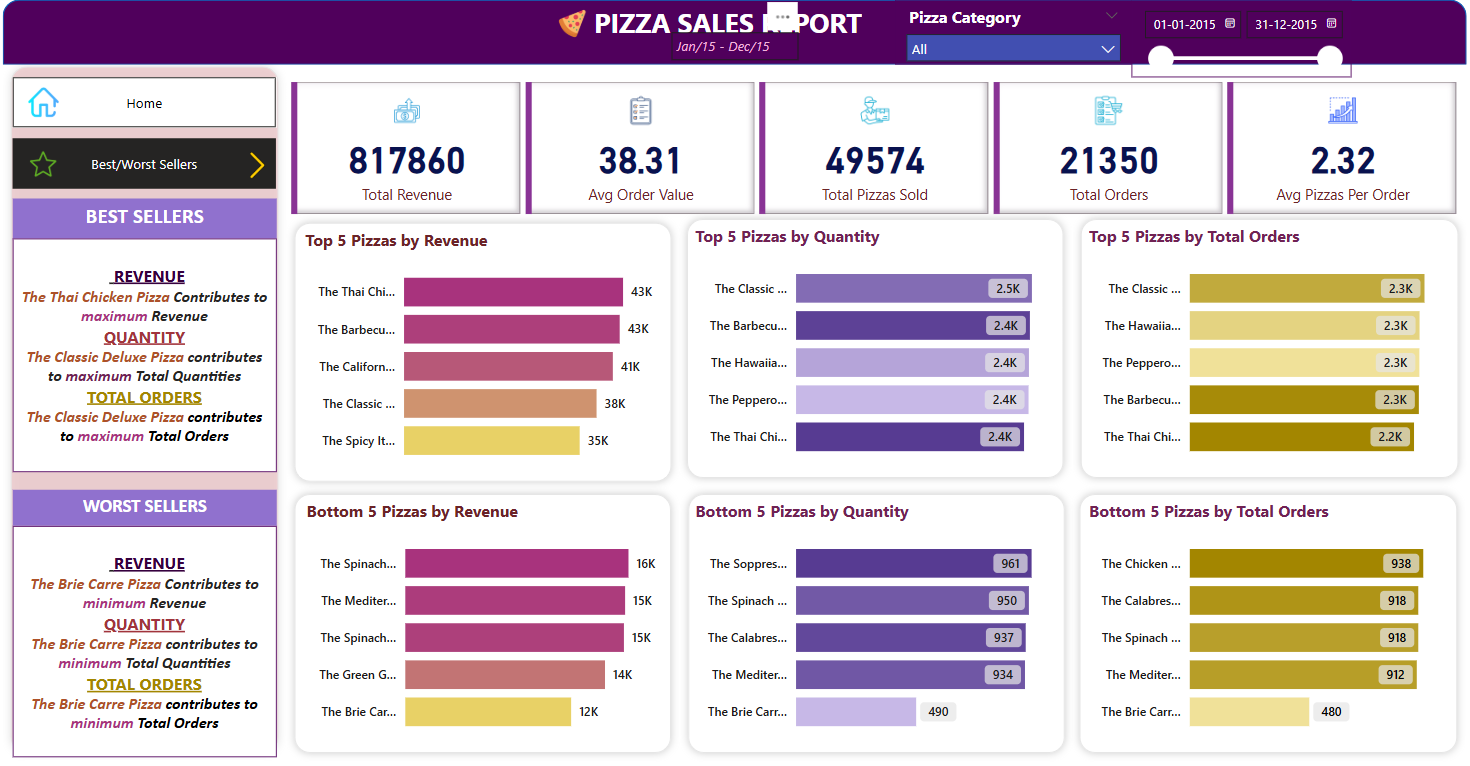

This screenshot's page, from the dashboard's own definition file:
{"tool":"powerbi","page":{"name":"Best/Worst Sellers","canvas":[1500,820],"ordinal":1},"visuals":[{"type":"shape","box":[18.8,58.8,283.8,702.5],"z":0},{"type":"cardVisual","fields":{"Data":["pizza_sales.Total Revenue","pizza_sales.Avg Order Value","pizza_sales.Total Pizzas Sold","pizza_sales.Total Orders","pizza_sales.Avg Pizzas Per Order"]},"box":[302.5,77.5,1178.8,142.5],"z":1000},{"type":"shape","box":[18.8,0,1463.8,65],"z":2000},{"type":"textbox","box":[605,0,291.2,47.5],"z":3000},{"type":"textbox","box":[687.5,32.5,127.5,27.5],"z":4000},{"type":"image","box":[557.5,5,61.2,37.5],"z":5000},{"type":"shape","box":[302.5,215,393,275],"z":6000},{"type":"textbox","box":[28.8,198.8,263.8,41.2],"z":7000},{"type":"textbox","box":[28.8,238.8,263.8,233.8],"z":8000},{"type":"textbox","box":[28.8,490,263.8,36.2],"z":9000},{"type":"textbox","box":[28.8,526.2,263.8,231.2],"z":10000},{"type":"slicer","fields":{"Values":["pizza_sales.pizza_category"]},"box":[911.2,0,236.2,65],"z":11000},{"type":"slicer","fields":{"Values":["pizza_sales.order_date"]},"box":[1147.5,0,220,77.5],"z":12000},{"type":"shape","box":[695,211.2,392.5,275],"z":13000},{"type":"shape","box":[1088.8,211.2,393.8,275],"z":14000},{"type":"shape","box":[302.5,486.2,392.5,275],"z":15000},{"type":"shape","box":[696.2,486.2,392.5,275],"z":16000},{"type":"shape","box":[1087.5,486.2,393.8,275],"z":17000},{"type":"barChart","title":"Top 5 Pizzas by Revenue","fields":{"Category":["pizza_sales.pizza_name"],"Y":["pizza_sales.Total Revenue"]},"box":[316.2,228.8,362.5,247.5],"z":18000},{"type":"barChart","title":"Bottom 5 Pizzas by Revenue","fields":{"Category":["pizza_sales.pizza_name"],"Y":["pizza_sales.Total Revenue"]},"box":[317.5,500,362.5,247.5],"z":19000},{"type":"barChart","title":"Top 5 Pizzas by Quantity","fields":{"Y":["pizza_sales.Total Pizzas Sold"],"Category":["pizza_sales.pizza_name"]},"box":[706.2,225,371.2,247.5],"z":20000},{"type":"barChart","title":"Bottom 5 Pizzas by Quantity","fields":{"Y":["pizza_sales.Total Pizzas Sold"],"Category":["pizza_sales.pizza_name"]},"box":[706.2,500,371.2,247.5],"z":20001},{"type":"barChart","title":"Top 5 Pizzas by Total Orders","fields":{"Category":["pizza_sales.pizza_name"],"Y":["pizza_sales.Total Orders"]},"box":[1100,225,371.2,247.5],"z":20002},{"type":"barChart","title":"Bottom 5 Pizzas by Total Orders","fields":{"Category":["pizza_sales.pizza_name"],"Y":["pizza_sales.Total Orders"]},"box":[1100,500,371.2,247.5],"z":20003},{"type":"pageNavigator","box":[28.8,77.5,263.8,50],"z":20004},{"type":"pageNavigator","box":[28.8,138.8,263.8,50],"z":20005},{"type":"image","box":[253.8,155,38.8,36.2],"z":20006},{"type":"image","box":[38.8,82.5,41.2,40],"z":20007},{"type":"image","box":[38.8,155,41.2,36.2],"z":20008}]}

Visuals, with their boxes on the page's 1500x820 design canvas (x1, y1, x2, y2). These are canvas units, not pixel positions in the 1470x766 screenshot, which may show the page scaled, cropped or inside an application window:
shape: rect(19, 59, 303, 761)
cardVisual - pizza_sales.Total Revenue x pizza_sales.Avg Order Value: rect(302, 78, 1481, 220)
shape: rect(19, 0, 1483, 65)
textbox: rect(605, 0, 896, 48)
textbox: rect(688, 32, 815, 60)
image: rect(558, 5, 619, 42)
shape: rect(302, 215, 696, 490)
textbox: rect(29, 199, 293, 240)
textbox: rect(29, 239, 293, 473)
textbox: rect(29, 490, 293, 526)
textbox: rect(29, 526, 293, 757)
slicer - pizza_sales.pizza_category: rect(911, 0, 1147, 65)
slicer - pizza_sales.order_date: rect(1148, 0, 1368, 78)
shape: rect(695, 211, 1088, 486)
shape: rect(1089, 211, 1483, 486)
shape: rect(302, 486, 695, 761)
shape: rect(696, 486, 1089, 761)
shape: rect(1088, 486, 1481, 761)
"Top 5 Pizzas by Revenue" barChart: rect(316, 229, 679, 476)
"Bottom 5 Pizzas by Revenue" barChart: rect(318, 500, 680, 748)
"Top 5 Pizzas by Quantity" barChart: rect(706, 225, 1077, 472)
"Bottom 5 Pizzas by Quantity" barChart: rect(706, 500, 1077, 748)
"Top 5 Pizzas by Total Orders" barChart: rect(1100, 225, 1471, 472)
"Bottom 5 Pizzas by Total Orders" barChart: rect(1100, 500, 1471, 748)
pageNavigator: rect(29, 78, 293, 128)
pageNavigator: rect(29, 139, 293, 189)
image: rect(254, 155, 293, 191)
image: rect(39, 82, 80, 122)
image: rect(39, 155, 80, 191)
